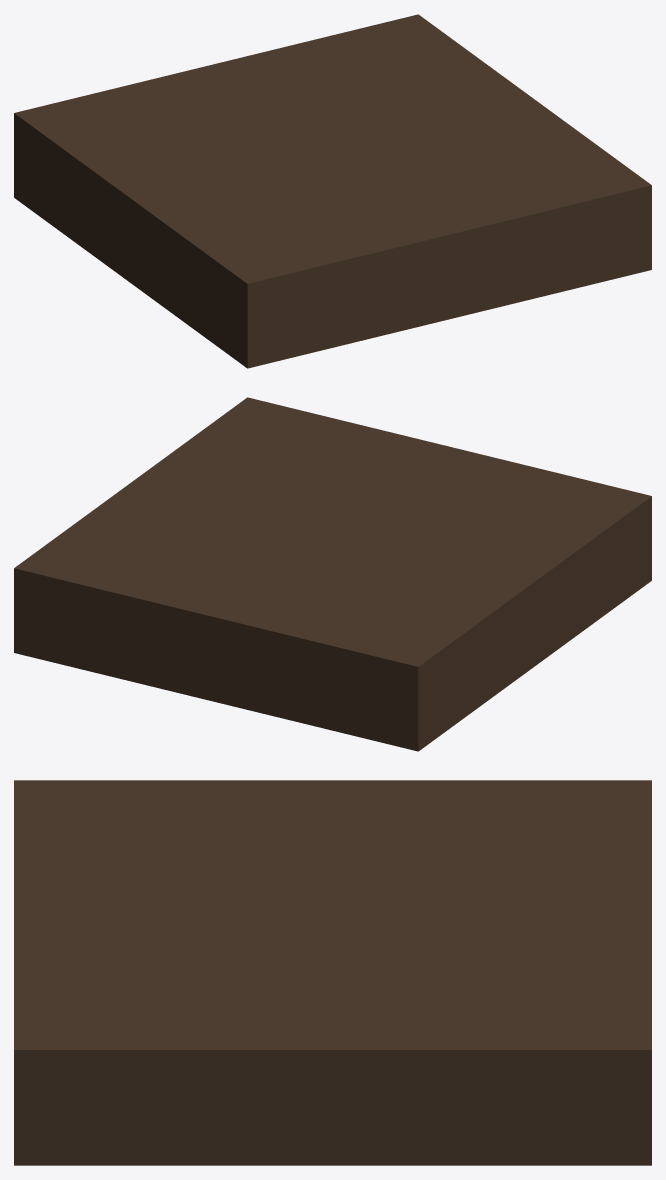
The model's file is tile-plain_dirt.glb.
The picture shows the model from 3 angles, top to bottom: view 1: azimuth 30°, elevation 25°; view 2: azimuth 150°, elevation 25°; view 3: azimuth 270°, elevation 25°; orthographic projection. The views are drawn at different scales.
Parts seen in each view (by area): view 1: tile-plain_dirt; view 2: tile-plain_dirt; view 3: tile-plain_dirt.
Part boxes in pixels (bbox=[...]): tile-plain_dirt: bbox=[14, 14, 651, 368]; tile-plain_dirt: bbox=[14, 397, 651, 751]; tile-plain_dirt: bbox=[14, 780, 651, 1165].
Size of the model in its own units: 30 by 6 by 30.
Materials: 1 (1 with a texture image).
